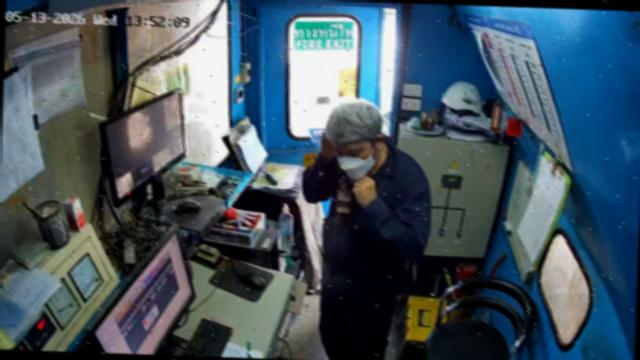Head: (325, 99, 385, 178)
People: (301, 100, 433, 359)
